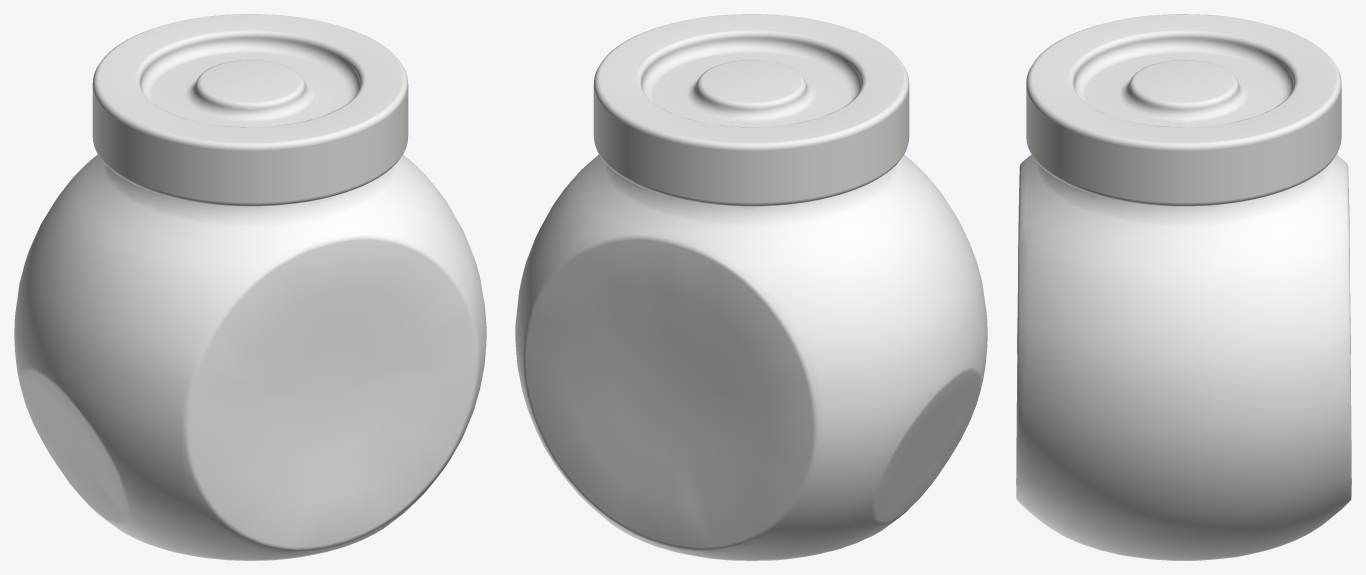
File: rajtan_pojemnik_na_przyprawy_40064702.glb
3 renders of one model, left to right at view 1: azimuth 30°, elevation 25°; view 2: azimuth 150°, elevation 25°; view 3: azimuth 270°, elevation 25°, orthographic.
Visible parts, largest first — view 1: rajtan_pojemnik_na_przyprawy_40064702; view 2: rajtan_pojemnik_na_przyprawy_40064702; view 3: rajtan_pojemnik_na_przyprawy_40064702.
Part boxes in pixels (box(x1,y1,x2,y2)): rajtan_pojemnik_na_przyprawy_40064702: box(14, 14, 486, 560); rajtan_pojemnik_na_przyprawy_40064702: box(515, 14, 987, 560); rajtan_pojemnik_na_przyprawy_40064702: box(1016, 14, 1351, 560).
Bounding box in the file's own units: 0.0815 × 0.0808 × 0.058.
2 materials, 2 textured.
